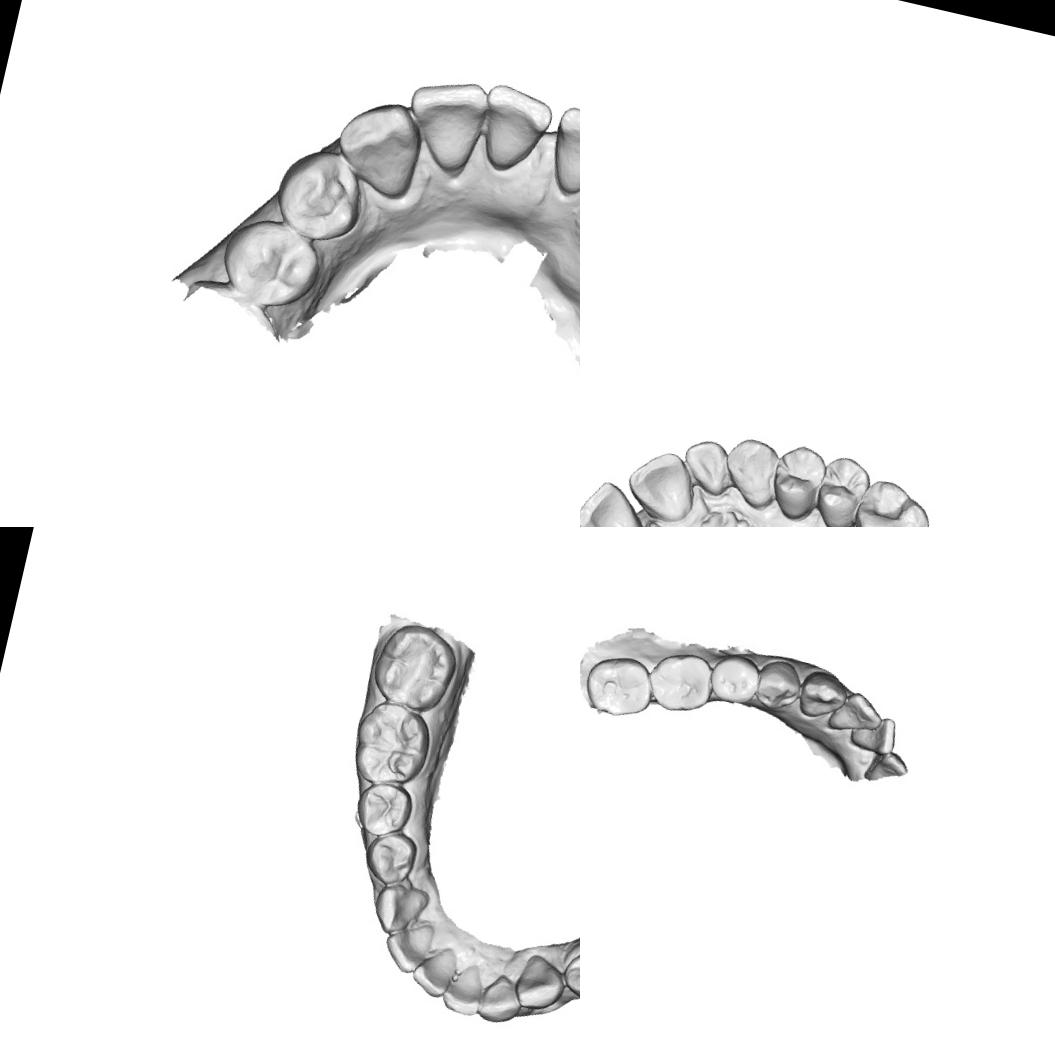canine: (328, 90, 430, 204), (714, 433, 792, 516), (369, 878, 432, 941), (511, 954, 570, 1016), (794, 666, 852, 726)
incisor: (398, 71, 496, 181), (472, 78, 560, 182), (618, 442, 704, 527), (540, 103, 580, 207), (580, 473, 653, 527), (676, 433, 733, 498), (823, 685, 888, 742), (846, 708, 903, 759), (380, 924, 431, 977), (438, 965, 488, 1019), (476, 975, 526, 1028), (408, 950, 454, 1000)
molar: (365, 616, 464, 718), (345, 695, 437, 794), (580, 646, 658, 723), (641, 645, 718, 719), (841, 473, 940, 527)
premolar: (264, 141, 374, 260), (216, 212, 326, 315), (765, 437, 830, 524), (807, 450, 874, 527), (351, 778, 416, 843), (701, 648, 766, 711), (359, 826, 420, 890), (750, 654, 808, 716), (559, 943, 580, 1005)
